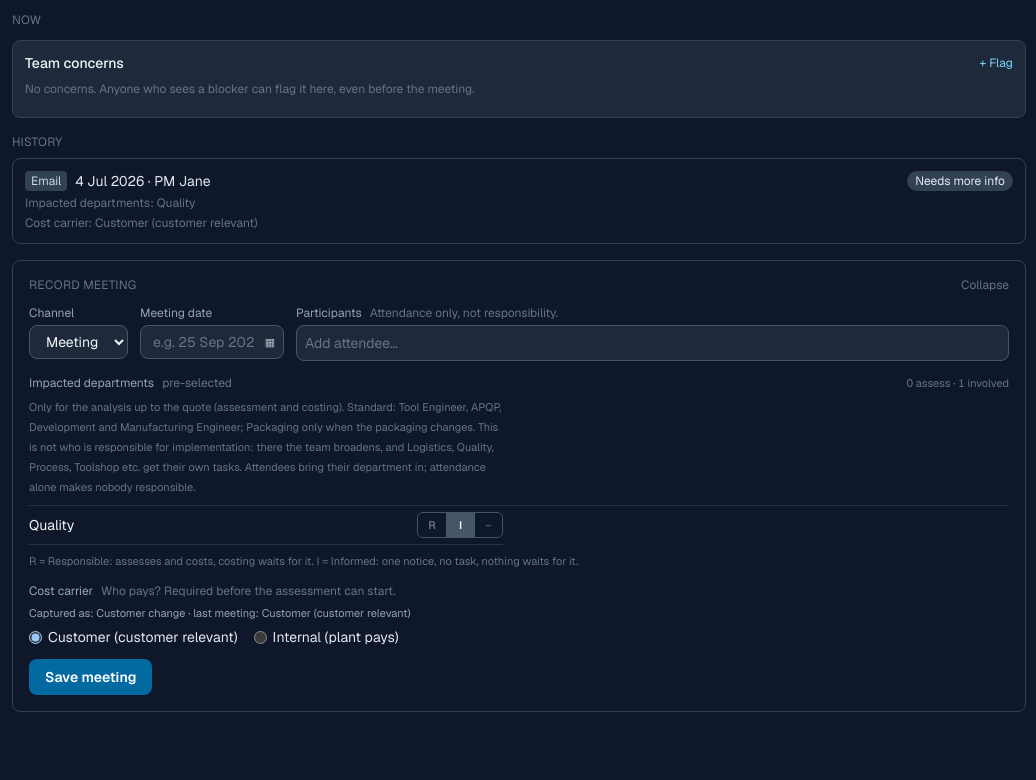
Scenario: ScopingPanel keeps the discussion out of the record › neither renders meeting notes nor offers a notes field
Expected: the text "Email 4 Jul 2026 · PM Jane" is shown, [25, 171, 211, 191]
Expected: the text "Discussion happens by email: attach the thread as a document" is not shown
Select "Email" in the dropdown with test id "meeting-channel": [78, 342] box [29, 325, 128, 359]
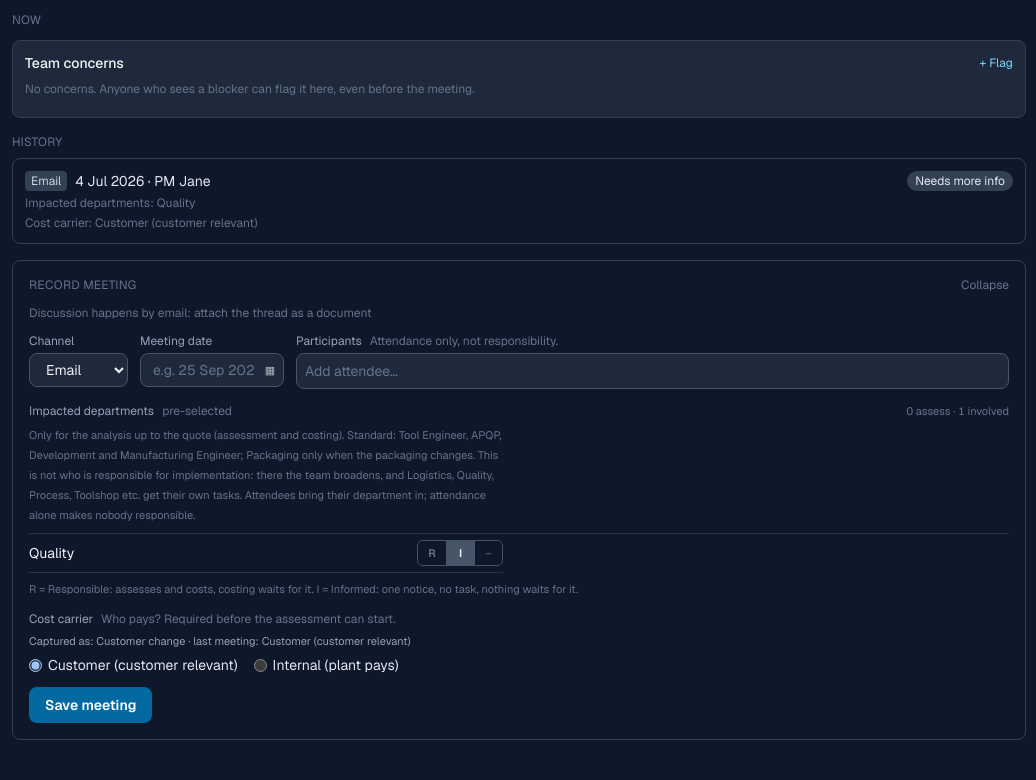
Expected: the text "Discussion happens by email: attach the thread as a document" is shown, [29, 305, 372, 321]
